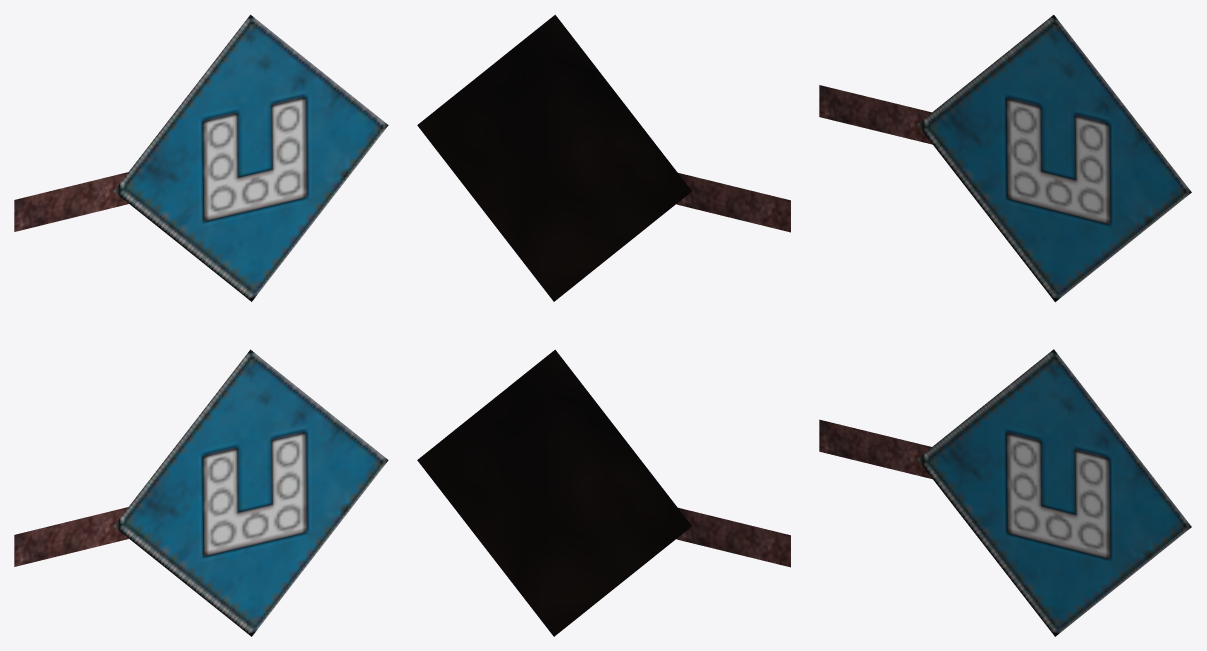
The model's file is sigznak_NV3l.gltf.
The picture shows the model from 3 angles, left to right: view 1: azimuth 30°, elevation 25°; view 2: azimuth 150°, elevation 25°; view 3: azimuth 330°, elevation 25°; orthographic projection.
Bounding box in the file's own units: 0.8675 × 1.38 × 0.00291.
1 material, 1 textured.
